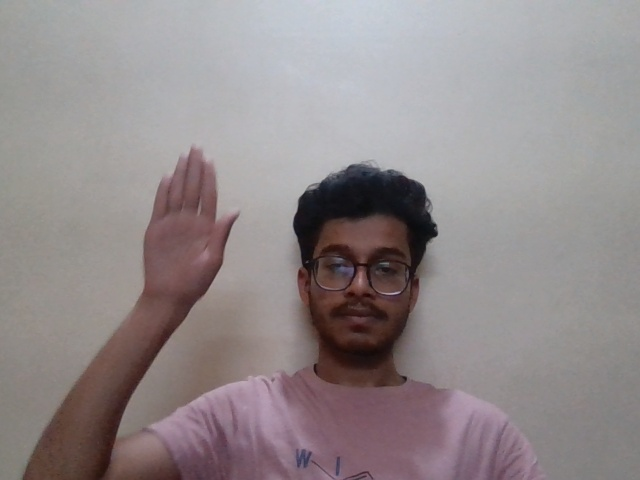hello: (145, 140, 248, 322)
